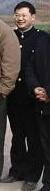boots: (0, 174, 22, 183), (0, 158, 10, 168)
